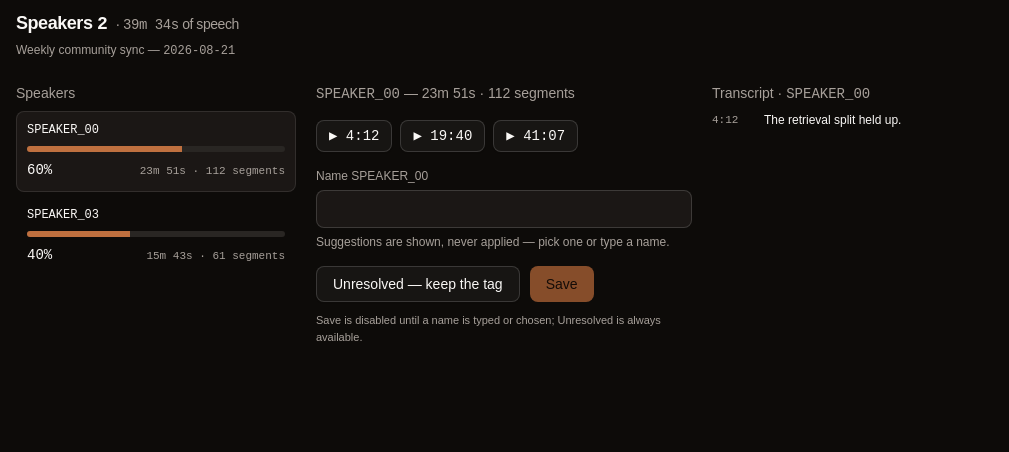
Test: the three assignment paths › shows the response-confirmed identity on the row while its rerun is queued
Expected: the element with test id "speaker-row-SPEAKER_00" is shown, 16,111 -> 296,192
Expected: the text "Weekly community sync — 2026-08-21" is shown, 16,43 -> 235,58
In the dropdown: (504, 209) 316,190 -> 692,228, type "pri"
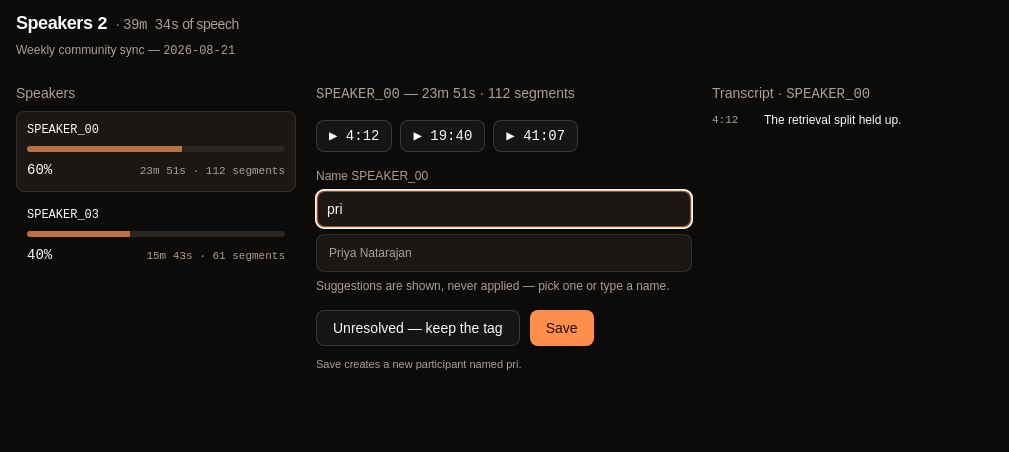
Click the option "Priya Natarajan": (370, 253) 329,246 -> 412,260
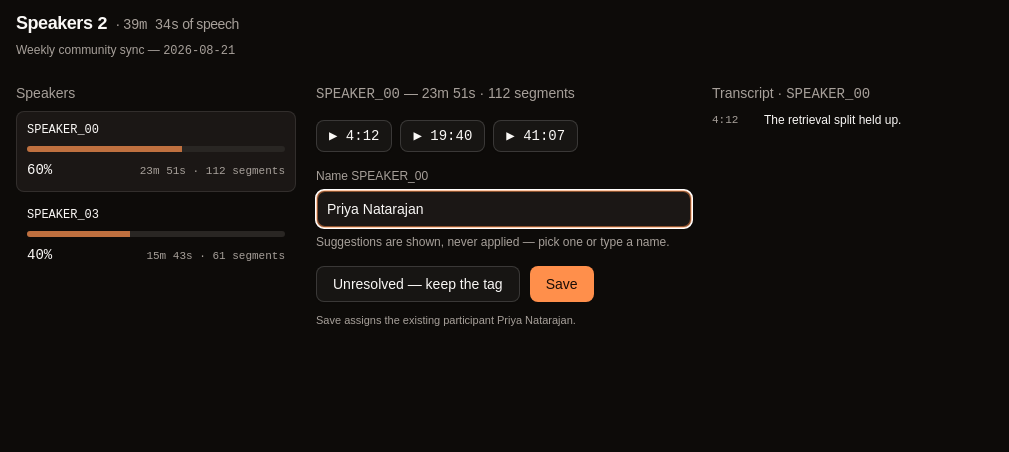
Click the button "Save": (562, 284) 530,266 -> 594,302
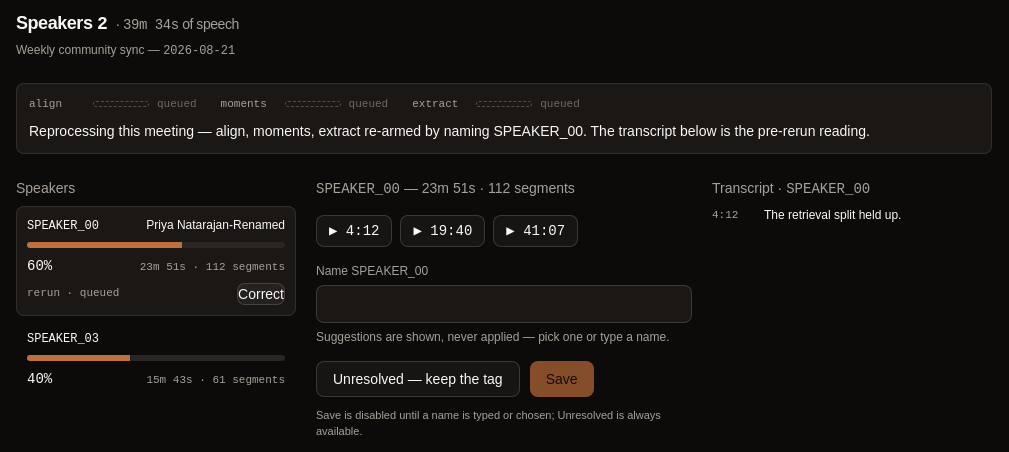
Expected: the text "Priya Natarajan-Renamed" is shown, 146,216 -> 285,232
Expected: the text "rerun · queued" is shown, 27,285 -> 119,302
